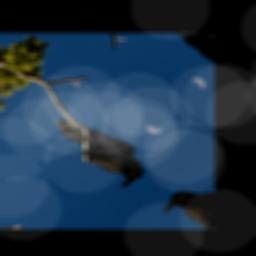Crow: (32, 106, 158, 192)
